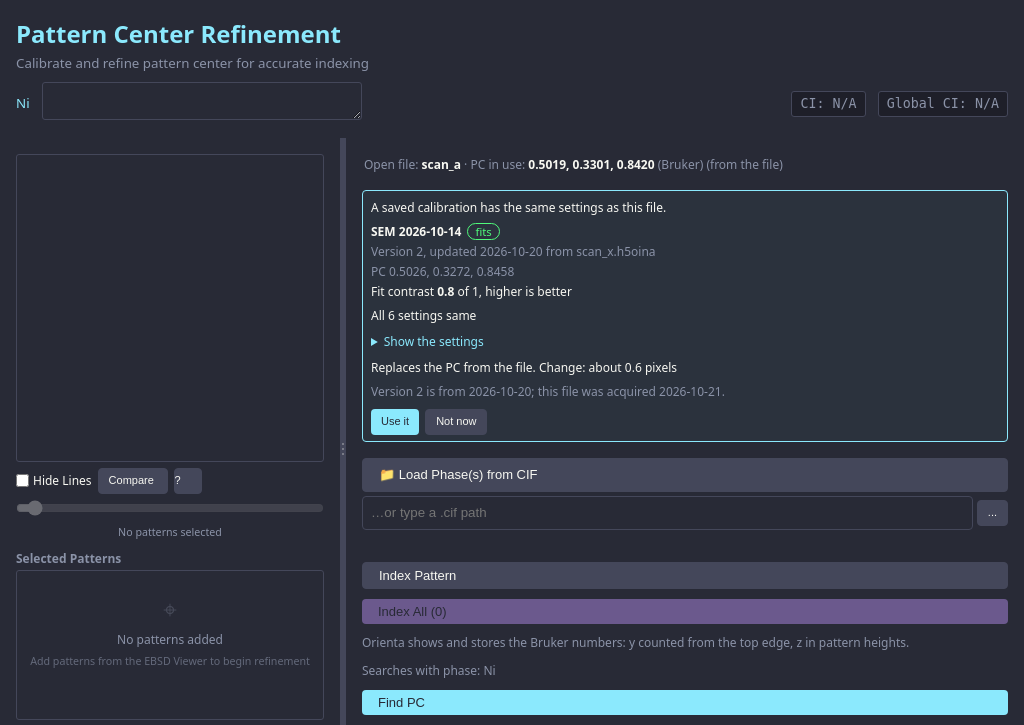
Test: the offer on load › A: "Use it" applies the shown version to this file only, refreshes the page like a put back and shows the grant
Click the button "Use it" at (395, 422), box [371,409,419,435]
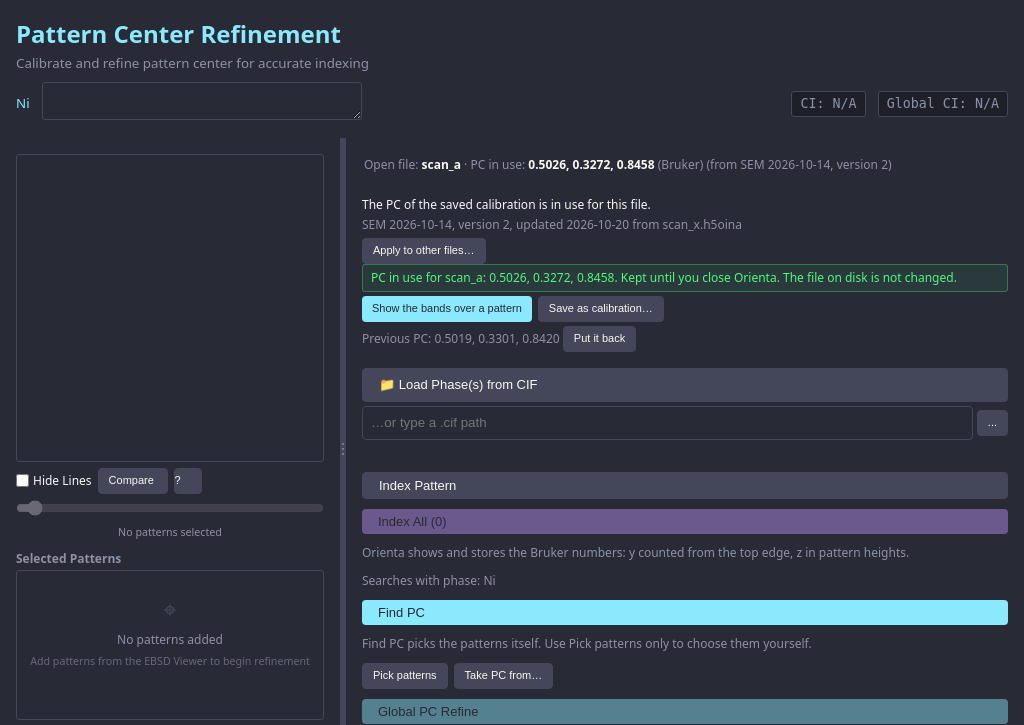
Expected: the text with test id "calibration-in-use" reads "The PC of the saved calibration is in use for this file.", [362,196,651,213]
Expected: the text with test id "calibration-in-use-from" reads "SEM 2026-10-14, version 2, updated 2026-10-20 from scan_x.h5oina", [362,216,742,233]
Expected: the message with test id "pc-grant-text" shows "PC in use for scan_a: 0.5026, 0.3272, 0.8458. Kept until you close Orienta. The file on disk is not changed.", [371,269,957,286]
